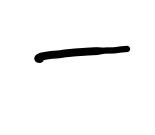minus: (34, 46, 130, 63)
